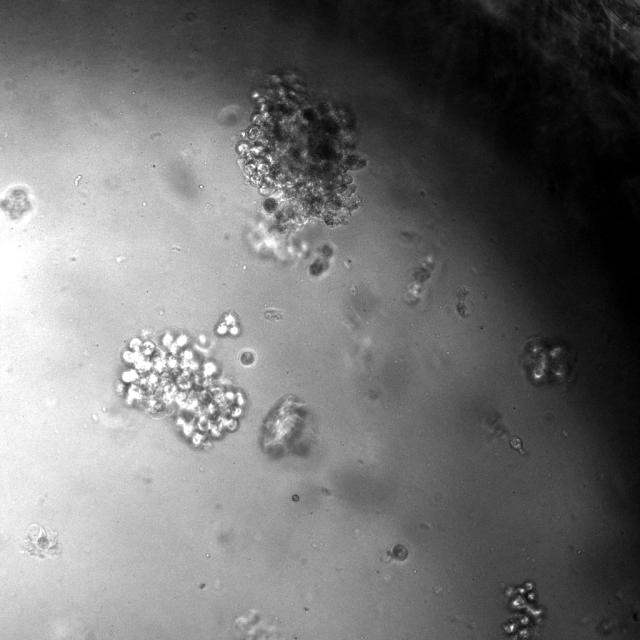organoid: (236, 72, 366, 232), (116, 329, 248, 447), (259, 394, 315, 458), (501, 581, 545, 639), (521, 336, 573, 385), (405, 255, 434, 305), (21, 524, 61, 559), (0, 187, 32, 221), (309, 243, 333, 276), (215, 309, 241, 336), (387, 543, 408, 561), (238, 348, 257, 367), (510, 435, 527, 455)
